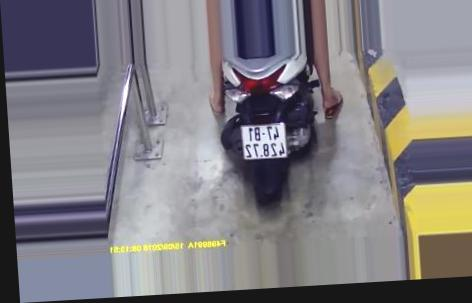License_Plate: (233, 119, 291, 167)
